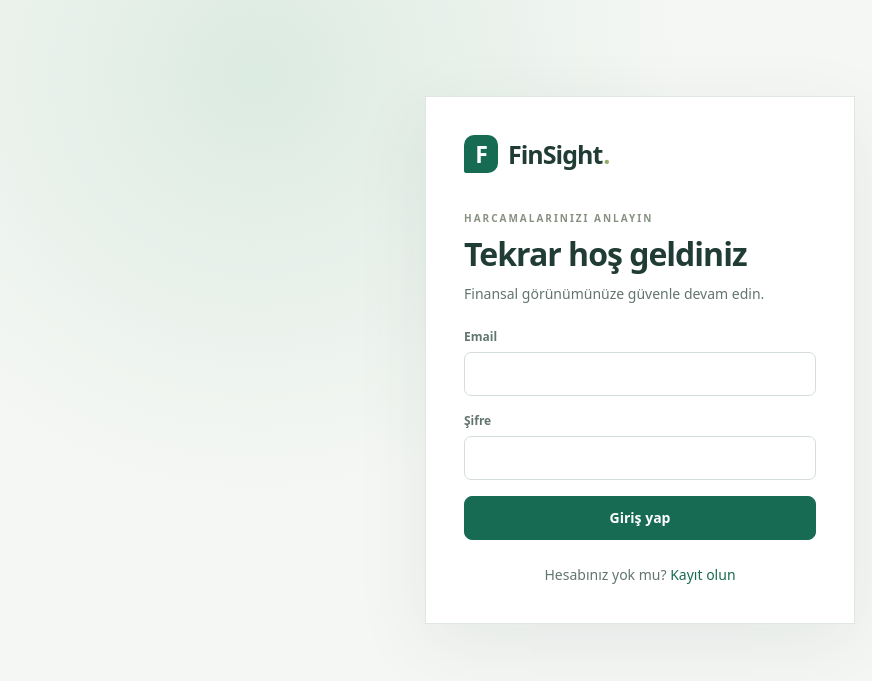
it: authentication routes and forms › renders invalid credentials as one generic message
This screenshot has width=872, height=681.
Type "synthetic@example.com" into the field labelled "Email" at {"x": 640, "y": 374}, box x1=464 y1=352 x2=816 y2=396
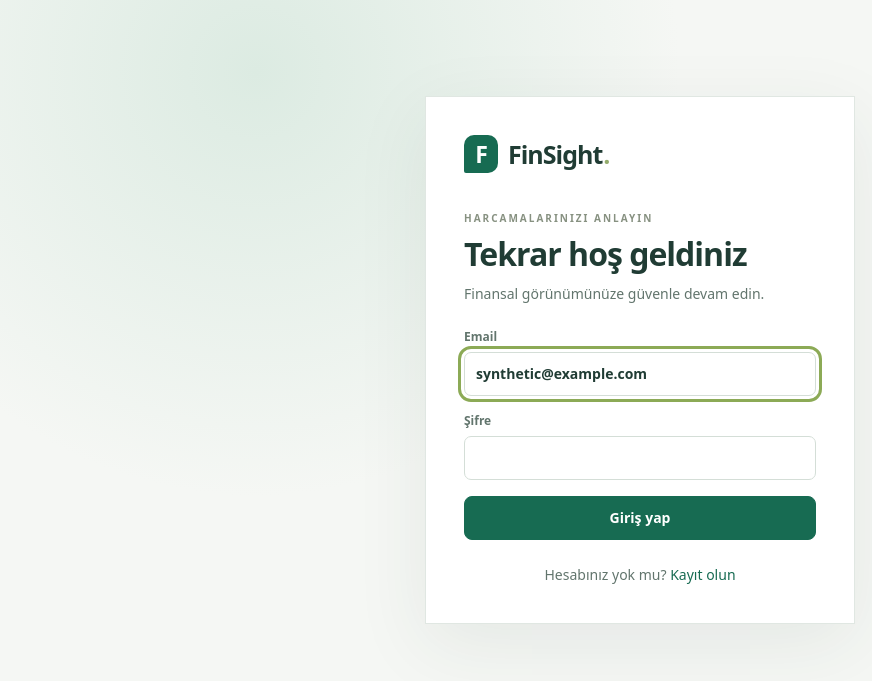
Type "wrong password value" into the password field labelled "Şifre" at {"x": 640, "y": 458}, box x1=464 y1=436 x2=816 y2=480
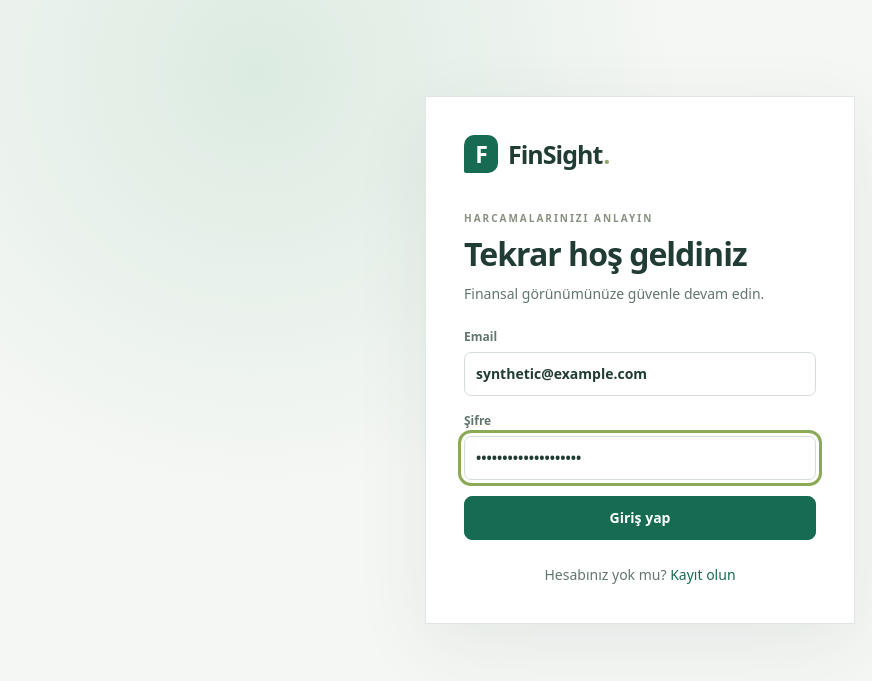
Click the button "Giriş yap" at {"x": 640, "y": 518}, box x1=464 y1=496 x2=816 y2=540
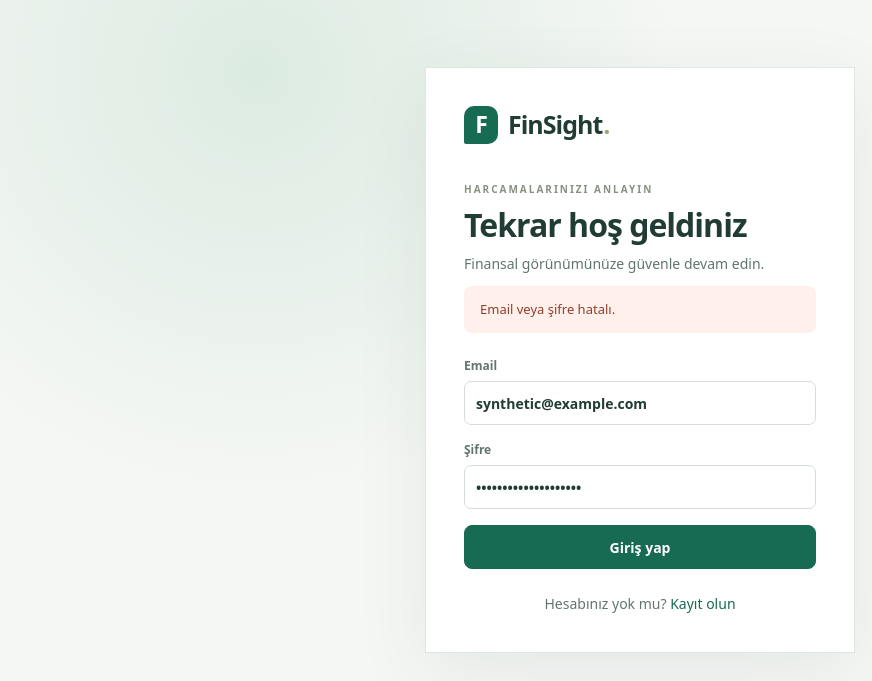
Now the message reads "Email veya şifre hatalı.", box x1=480 y1=300 x2=615 y2=318
